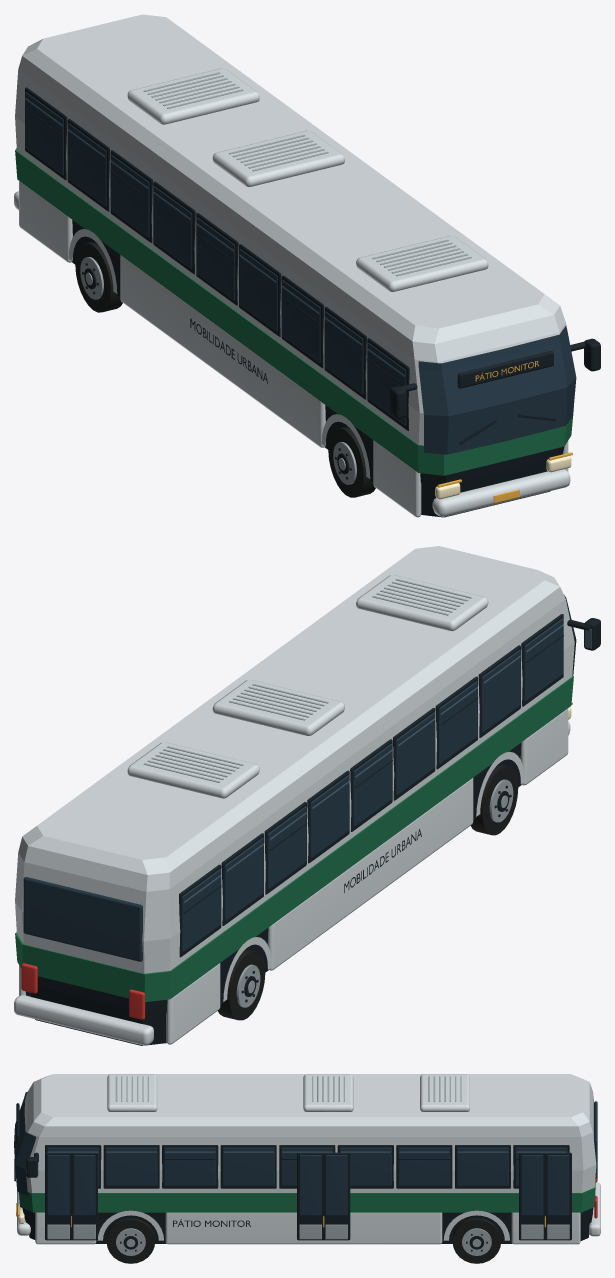
Rendered from sp-standard-bus.glb.
3 views of the same model, one above another, from view 1: azimuth 30°, elevation 25°; view 2: azimuth 150°, elevation 25°; view 3: azimuth 270°, elevation 25° (orthographic). The views are drawn at different scales.
Visible parts, largest first — view 1: Body · Porcelain enamel, Windows · Smoked glass, Livery · Livery, Roof · Porcelain enamel, Windows · Graphite trim, Body · Graphite trim, Roof · Satin alloy, Wheels · Rubber, DestinationSign · Graphite trim, Wheels · Satin alloy, Mirrors · Graphite trim, Windows · Glazing reflection; view 2: Body · Porcelain enamel, Windows · Smoked glass, Livery · Livery, Roof · Porcelain enamel, Windows · Graphite trim, Body · Graphite trim, Roof · Satin alloy, Wheels · Rubber, Wheels · Satin alloy, Lights · Tail lamps, Windows · Glazing reflection; view 3: Body · Porcelain enamel, Windows · Smoked glass, Doors · Smoked glass, Livery · Livery, Roof · Porcelain enamel, Doors · Graphite trim, Windows · Graphite trim, Wheels · Rubber, Body · Graphite trim, Doors · Satin alloy, Wheels · Satin alloy, Roof · Satin alloy (+4 smaller).
Part boxes in pixels (box(x1,y1,x2,y2)): Body · Porcelain enamel: box(14, 14, 570, 517); Windows · Smoked glass: box(25, 92, 576, 454); Livery · Livery: box(15, 148, 573, 475); Roof · Porcelain enamel: box(127, 68, 488, 291); Windows · Graphite trim: box(24, 87, 556, 444); Body · Graphite trim: box(72, 220, 564, 517); Roof · Satin alloy: box(143, 72, 471, 276); Wheels · Rubber: box(75, 242, 375, 497); DestinationSign · Graphite trim: box(457, 351, 553, 388); Wheels · Satin alloy: box(80, 257, 356, 484); Mirrors · Graphite trim: box(390, 338, 600, 418); Windows · Glazing reflection: box(25, 98, 404, 376); Body · Porcelain enamel: box(14, 546, 574, 1045); Windows · Smoked glass: box(23, 595, 576, 961); Livery · Livery: box(15, 674, 573, 1001); Roof · Porcelain enamel: box(127, 575, 488, 798); Windows · Graphite trim: box(179, 614, 563, 957); Body · Graphite trim: box(25, 743, 521, 1045); Roof · Satin alloy: box(143, 579, 471, 782); Wheels · Rubber: box(218, 765, 518, 1020); Wheels · Satin alloy: box(236, 779, 513, 1007); Lights · Tail lamps: box(21, 963, 145, 1019); Windows · Glazing reflection: box(184, 624, 563, 903); Body · Porcelain enamel: box(17, 1074, 600, 1244); Windows · Smoked glass: box(14, 1092, 597, 1196); Doors · Smoked glass: box(47, 1155, 569, 1215); Livery · Livery: box(19, 1178, 595, 1212); Roof · Porcelain enamel: box(107, 1074, 469, 1111); Doors · Graphite trim: box(45, 1152, 571, 1240); Windows · Graphite trim: box(14, 1145, 569, 1188); Wheels · Rubber: box(106, 1218, 501, 1263); Body · Graphite trim: box(22, 1208, 593, 1243); Doors · Satin alloy: box(47, 1224, 569, 1239); Wheels · Satin alloy: box(116, 1228, 491, 1255); Roof · Satin alloy: box(115, 1076, 461, 1101).
Size of the model in its own units: 3.36 by 3.42 by 12.18.
